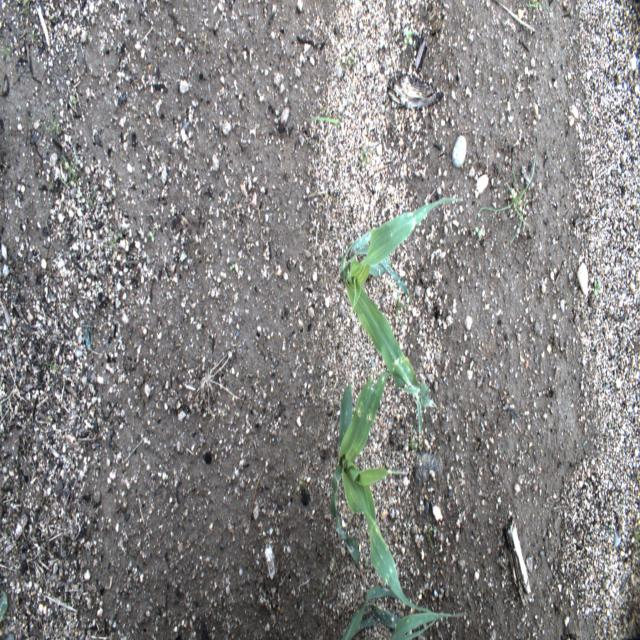crop: (330, 369, 465, 619), (340, 196, 460, 436), (342, 585, 469, 638)
weed: (478, 153, 536, 227), (401, 421, 421, 457), (61, 155, 80, 188), (106, 224, 125, 256), (310, 115, 343, 129), (80, 185, 97, 210), (343, 44, 360, 68), (524, 0, 551, 12), (425, 523, 434, 555), (0, 592, 9, 620), (359, 136, 366, 168), (43, 361, 59, 373), (592, 278, 602, 296), (395, 300, 409, 312), (20, 0, 31, 15), (48, 118, 58, 134), (1, 46, 12, 60), (403, 30, 412, 46), (36, 578, 45, 589), (634, 527, 640, 543), (319, 584, 325, 598), (228, 261, 234, 273), (41, 495, 46, 505), (247, 372, 255, 378)
